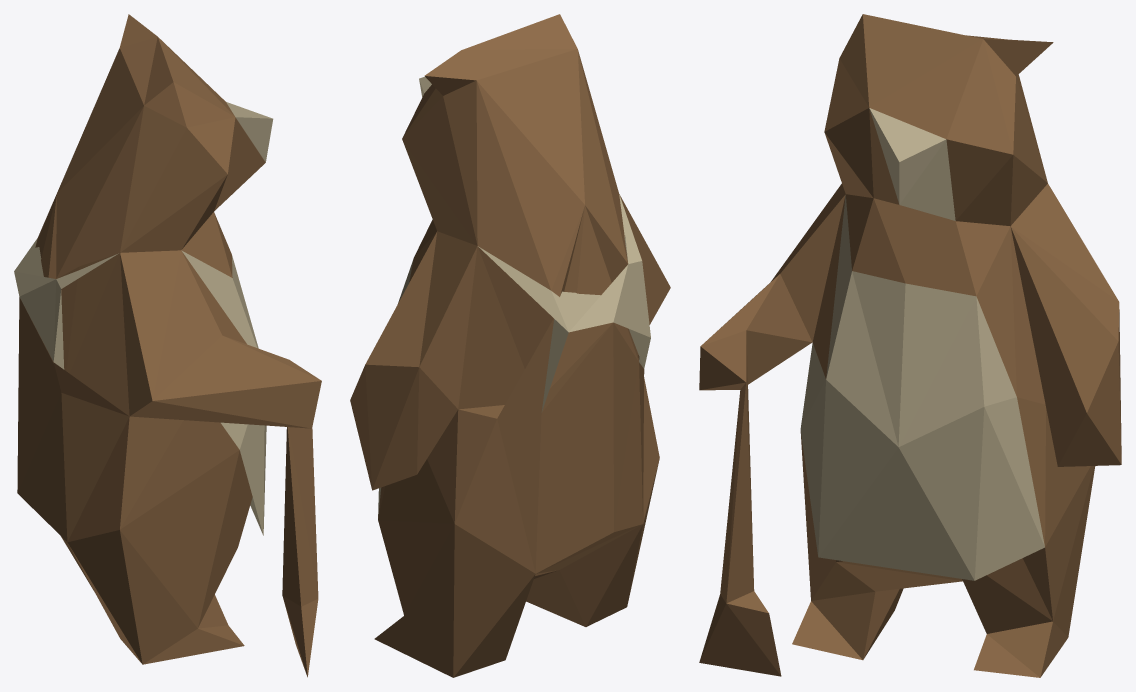
3 renders of one model, left to right at view 1: azimuth 30°, elevation 25°; view 2: azimuth 150°, elevation 25°; view 3: azimuth 270°, elevation 25°, orthographic. The views are drawn at different scales.
Visible parts, largest first — view 1: lion-200; view 2: lion-200; view 3: lion-200.
Boxes of the visible parts, <box> form: lion-200: <box>14,14,321,677</box>; lion-200: <box>350,14,670,677</box>; lion-200: <box>699,14,1121,677</box>.
Size of the model in its own units: 0.4065 by 0.9892 by 0.6112.
